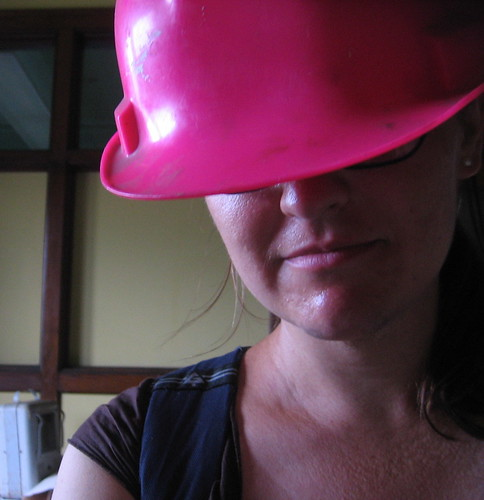person hardhat: (61, 3, 484, 500)
